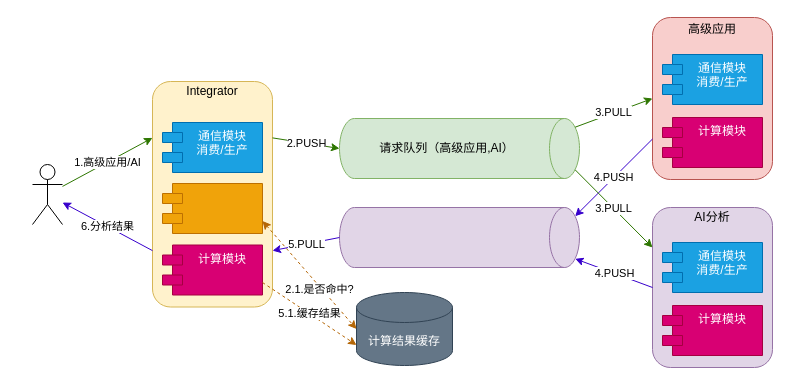
Some shapes in this 790 by 385 pixel diagram are drawn without their labels. The shapes that lost their labels are listed below. From the top down, each one's centre as x and y in pixels, then its label:
At pixel 47 194: "Viewer用户".
At pixel 212 208: "查询分析器".
At pixel 459 237: "响应队列（高级应用,AI）".
